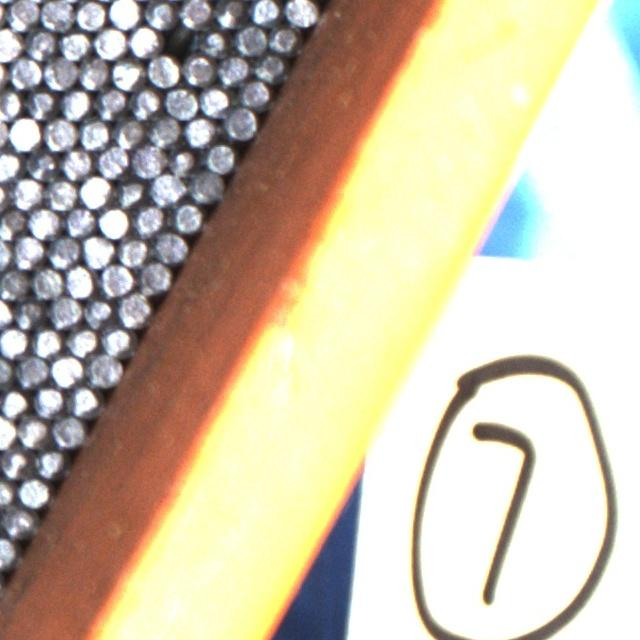tool: (144, 52, 180, 87), (130, 143, 166, 178), (146, 112, 182, 147), (51, 413, 86, 448), (116, 290, 151, 325), (132, 201, 166, 236), (8, 55, 42, 90), (221, 105, 256, 139), (182, 52, 216, 86), (50, 353, 84, 387), (81, 232, 115, 266), (152, 230, 186, 264), (43, 55, 77, 89), (100, 262, 134, 296), (9, 176, 43, 210), (93, 85, 127, 119), (150, 171, 184, 205), (23, 26, 57, 60), (46, 233, 80, 267), (164, 84, 198, 118), (14, 353, 48, 387), (24, 86, 58, 120), (116, 233, 150, 267), (110, 114, 144, 148), (15, 414, 49, 448), (136, 261, 170, 295), (188, 168, 222, 202), (197, 83, 232, 116), (10, 234, 43, 268), (31, 324, 64, 358), (96, 205, 130, 238), (92, 25, 126, 58), (77, 56, 110, 90), (110, 56, 143, 90), (127, 23, 160, 57), (58, 27, 91, 61), (82, 295, 115, 329), (8, 116, 41, 150), (48, 294, 82, 327), (95, 144, 128, 178), (25, 146, 58, 180), (216, 51, 249, 85), (196, 25, 230, 58), (12, 296, 45, 330), (87, 353, 120, 387), (236, 75, 270, 108), (65, 383, 98, 417), (161, 19, 195, 52), (44, 177, 77, 210), (78, 174, 111, 207), (27, 205, 60, 238), (233, 22, 266, 55), (129, 85, 162, 118), (60, 146, 93, 179), (42, 117, 75, 150), (59, 86, 92, 119), (65, 324, 98, 357), (100, 324, 133, 357), (17, 475, 50, 508), (77, 116, 110, 149), (166, 143, 199, 176), (113, 174, 146, 207), (31, 445, 64, 478), (169, 200, 203, 232), (32, 383, 64, 417), (62, 204, 94, 238), (0, 504, 32, 537), (183, 114, 216, 146), (30, 266, 63, 298), (253, 50, 286, 82), (204, 140, 236, 173), (39, 0, 73, 31), (0, 444, 31, 478), (64, 264, 96, 296), (268, 22, 300, 54), (74, 0, 108, 30), (5, 0, 39, 30), (0, 385, 30, 418), (107, 0, 141, 29), (0, 324, 29, 358), (143, 0, 177, 29), (212, 0, 246, 29), (0, 266, 28, 300), (284, 0, 318, 28), (179, 0, 212, 28), (248, 0, 282, 27), (0, 206, 26, 240), (0, 86, 23, 120), (0, 147, 23, 180), (0, 26, 22, 60), (0, 413, 16, 448), (0, 536, 17, 568), (0, 476, 15, 510), (0, 354, 14, 388)
